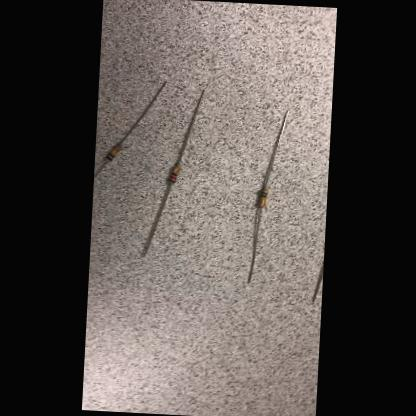resistor: (104, 144, 119, 162), (168, 165, 178, 183), (257, 188, 266, 206)
wire: (116, 78, 166, 146), (176, 86, 205, 166), (142, 182, 171, 257), (263, 108, 287, 188), (246, 206, 260, 280), (311, 262, 322, 302), (93, 160, 105, 178)
